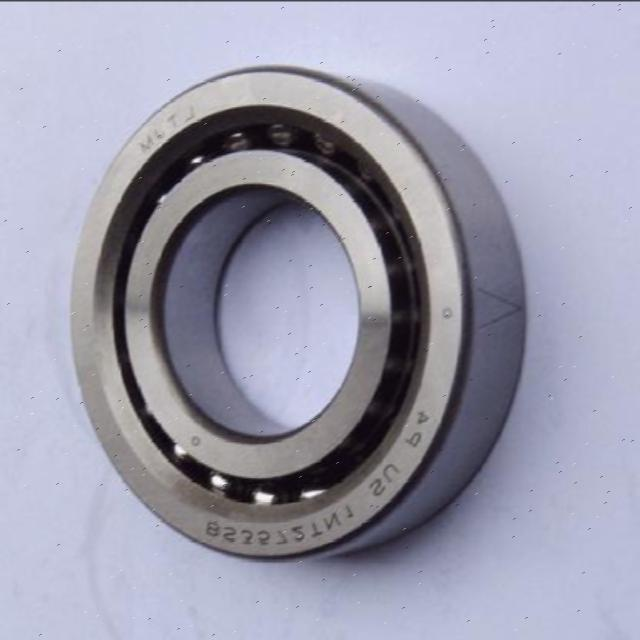Bearing: (69, 59, 526, 563)
